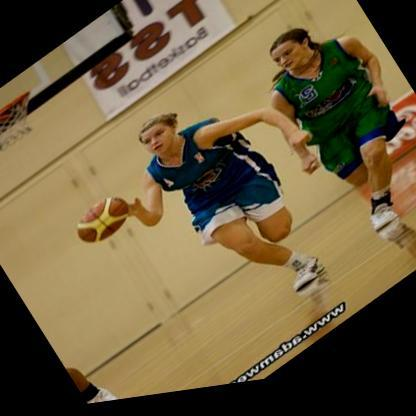basketball: (70, 189, 137, 257)
rim: (0, 88, 32, 137)
